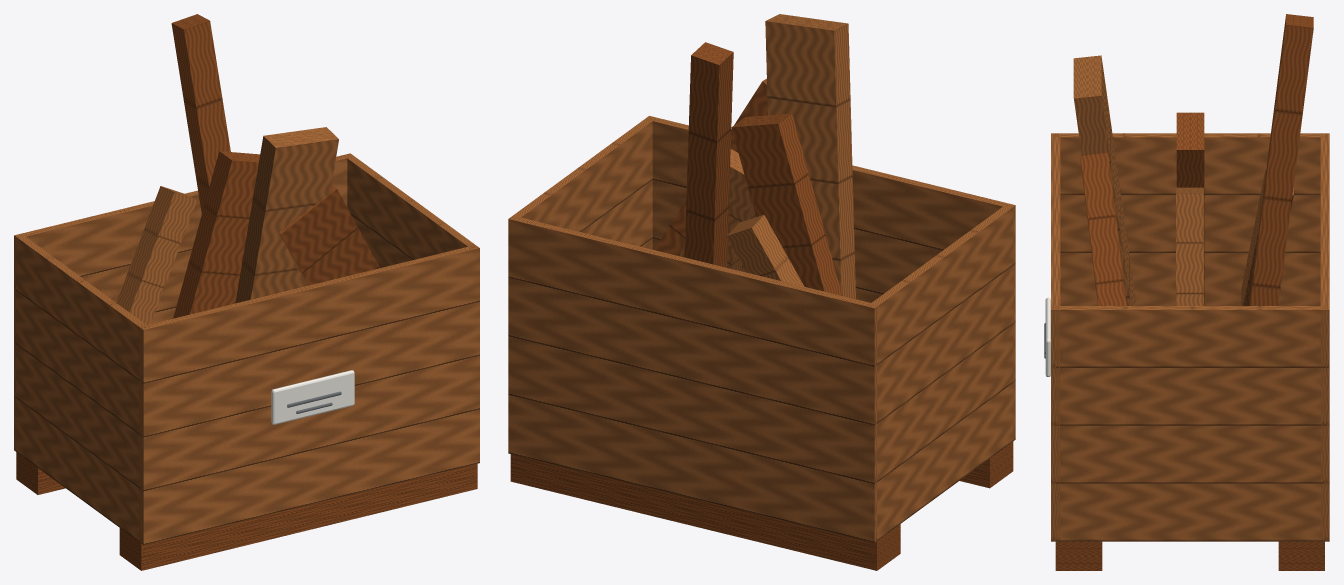
The model's file is woodworking-workshop-and-joinery-woodworking-workshop--c16ce05c__34262.glb.
The picture shows the model from 3 angles, left to right: view 1: azimuth 30°, elevation 25°; view 2: azimuth 150°, elevation 25°; view 3: azimuth 270°, elevation 25°; orthographic projection. The views are drawn at different scales.
Parts seen in each view (by area): view 1: woodworking-workshop-and-joinery-offcut-bin; view 2: woodworking-workshop-and-joinery-offcut-bin; view 3: woodworking-workshop-and-joinery-offcut-bin.
Part boxes in pixels (left/top/right/bottom): woodworking-workshop-and-joinery-offcut-bin: left=14, top=14, right=479, bottom=570; woodworking-workshop-and-joinery-offcut-bin: left=508, top=14, right=1015, bottom=570; woodworking-workshop-and-joinery-offcut-bin: left=1044, top=14, right=1329, bottom=570.
Size of the model in its own units: 0.9 by 1.1 by 0.615.
4 materials, 2 textured.
